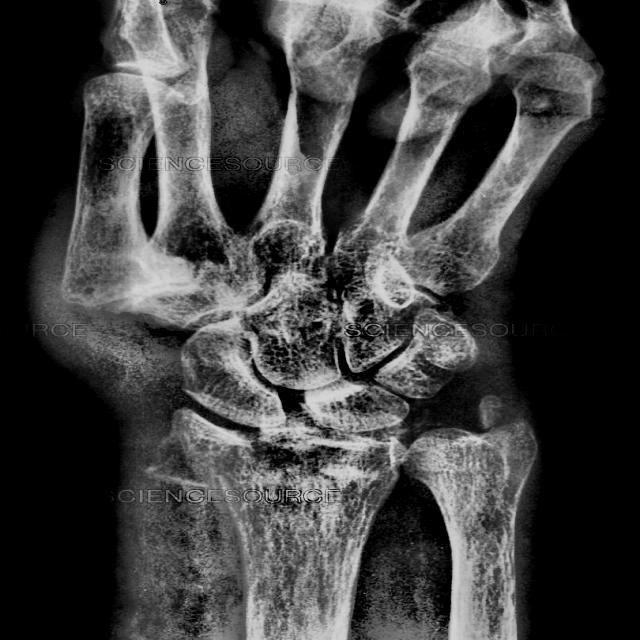fracture: (49, 249, 200, 322), (156, 417, 280, 502)
